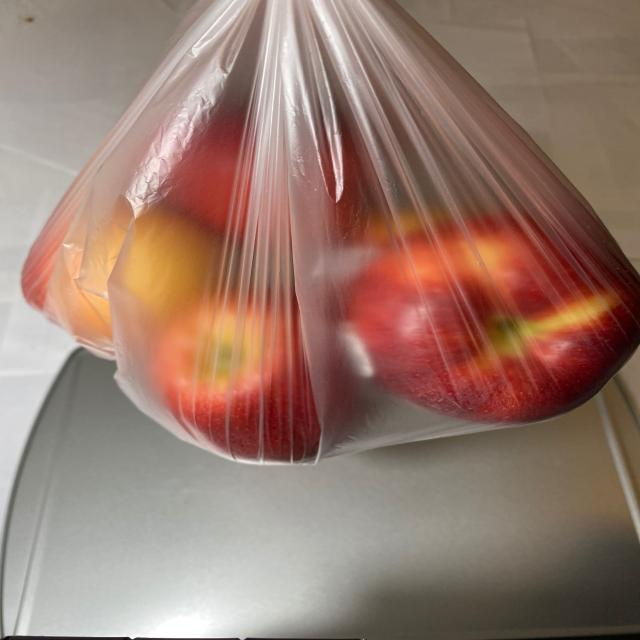apple: (18, 92, 636, 466)
